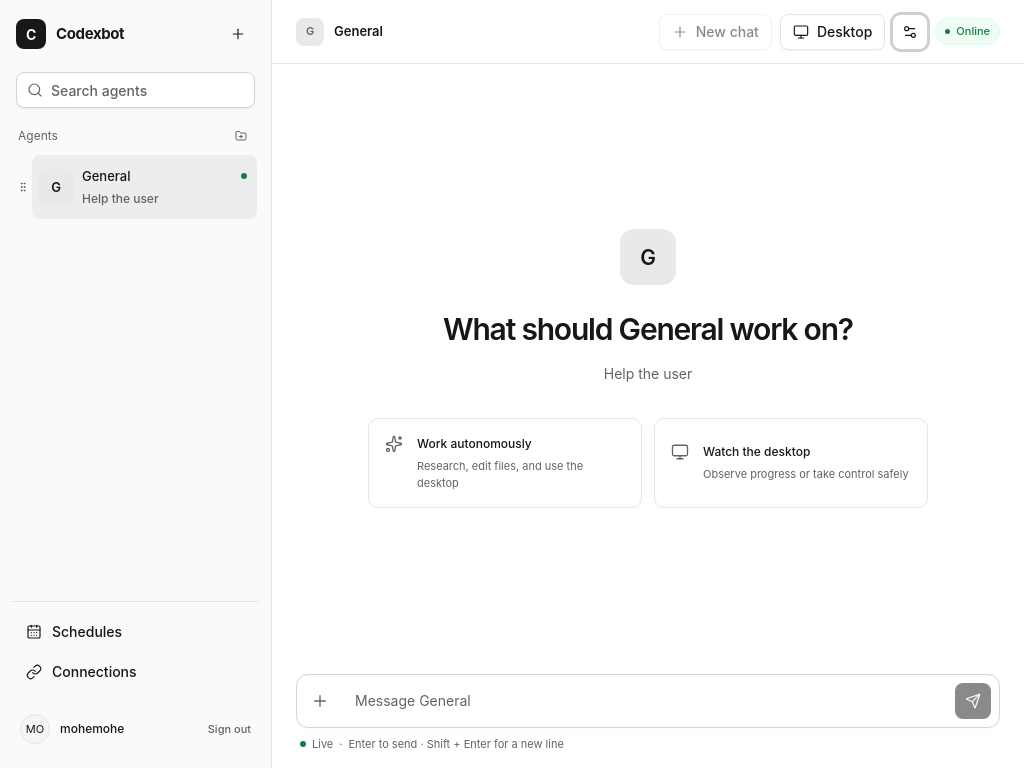
Test: Agent model settings › dismisses agent settings with Escape and restores focus without saving
Click the button named "Agent settings". click: (910, 32)
box: x1=893 y1=14 x2=927 y2=48
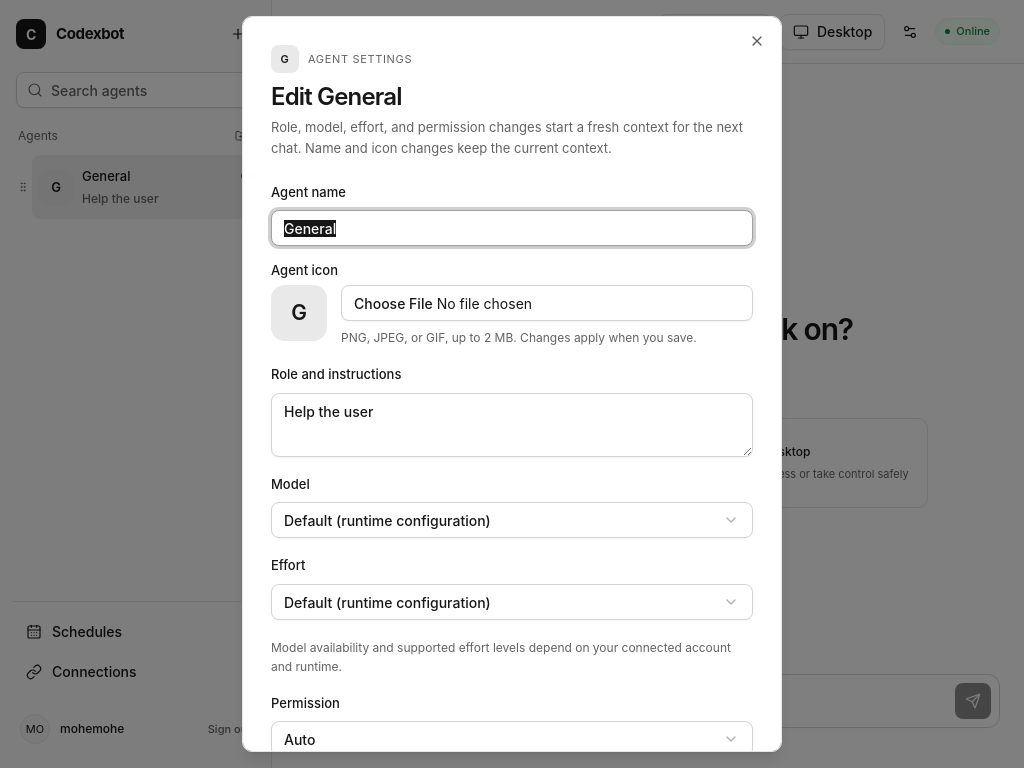
Replace the text in the field labelled "Agent name" with "Unsaved name". click: (512, 228)
box: x1=271 y1=210 x2=753 y2=246
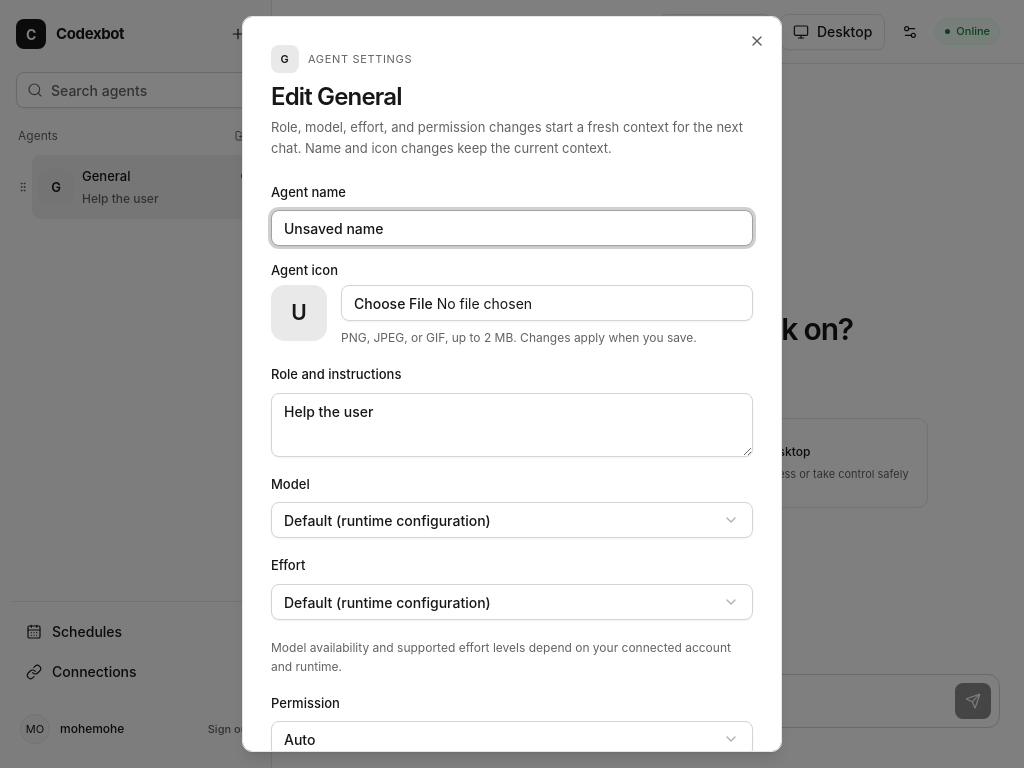
Press Escape in the dialog "Edit General", box x1=242 y1=16 x2=782 y2=752
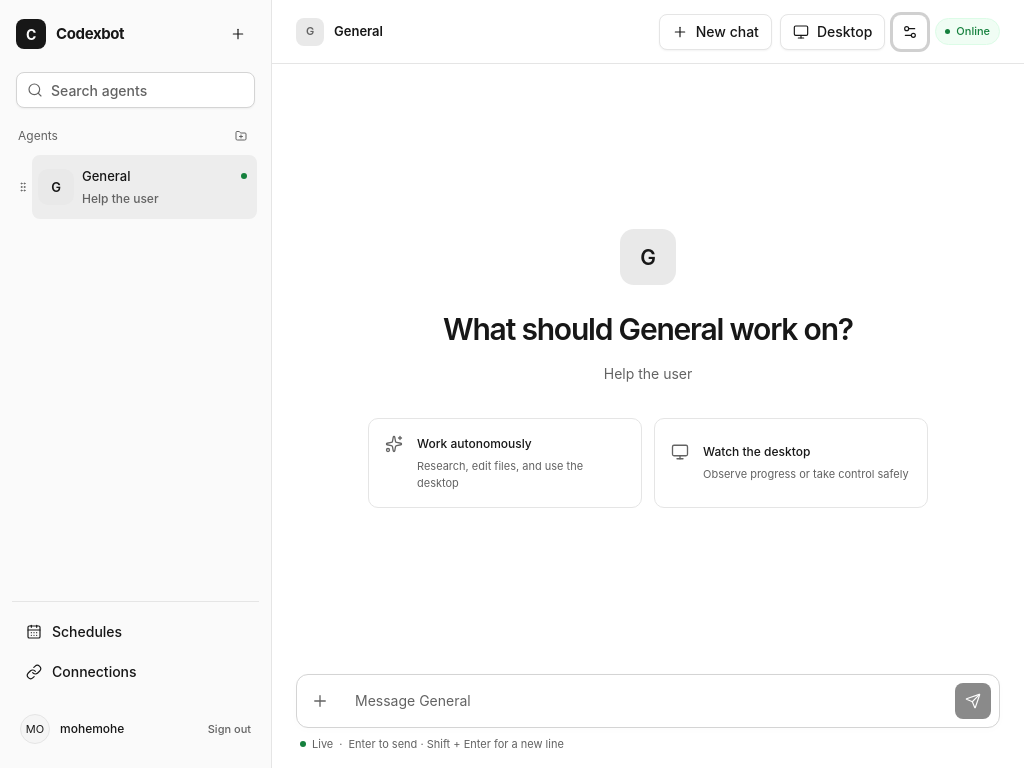
expect the dialog is gone: met
